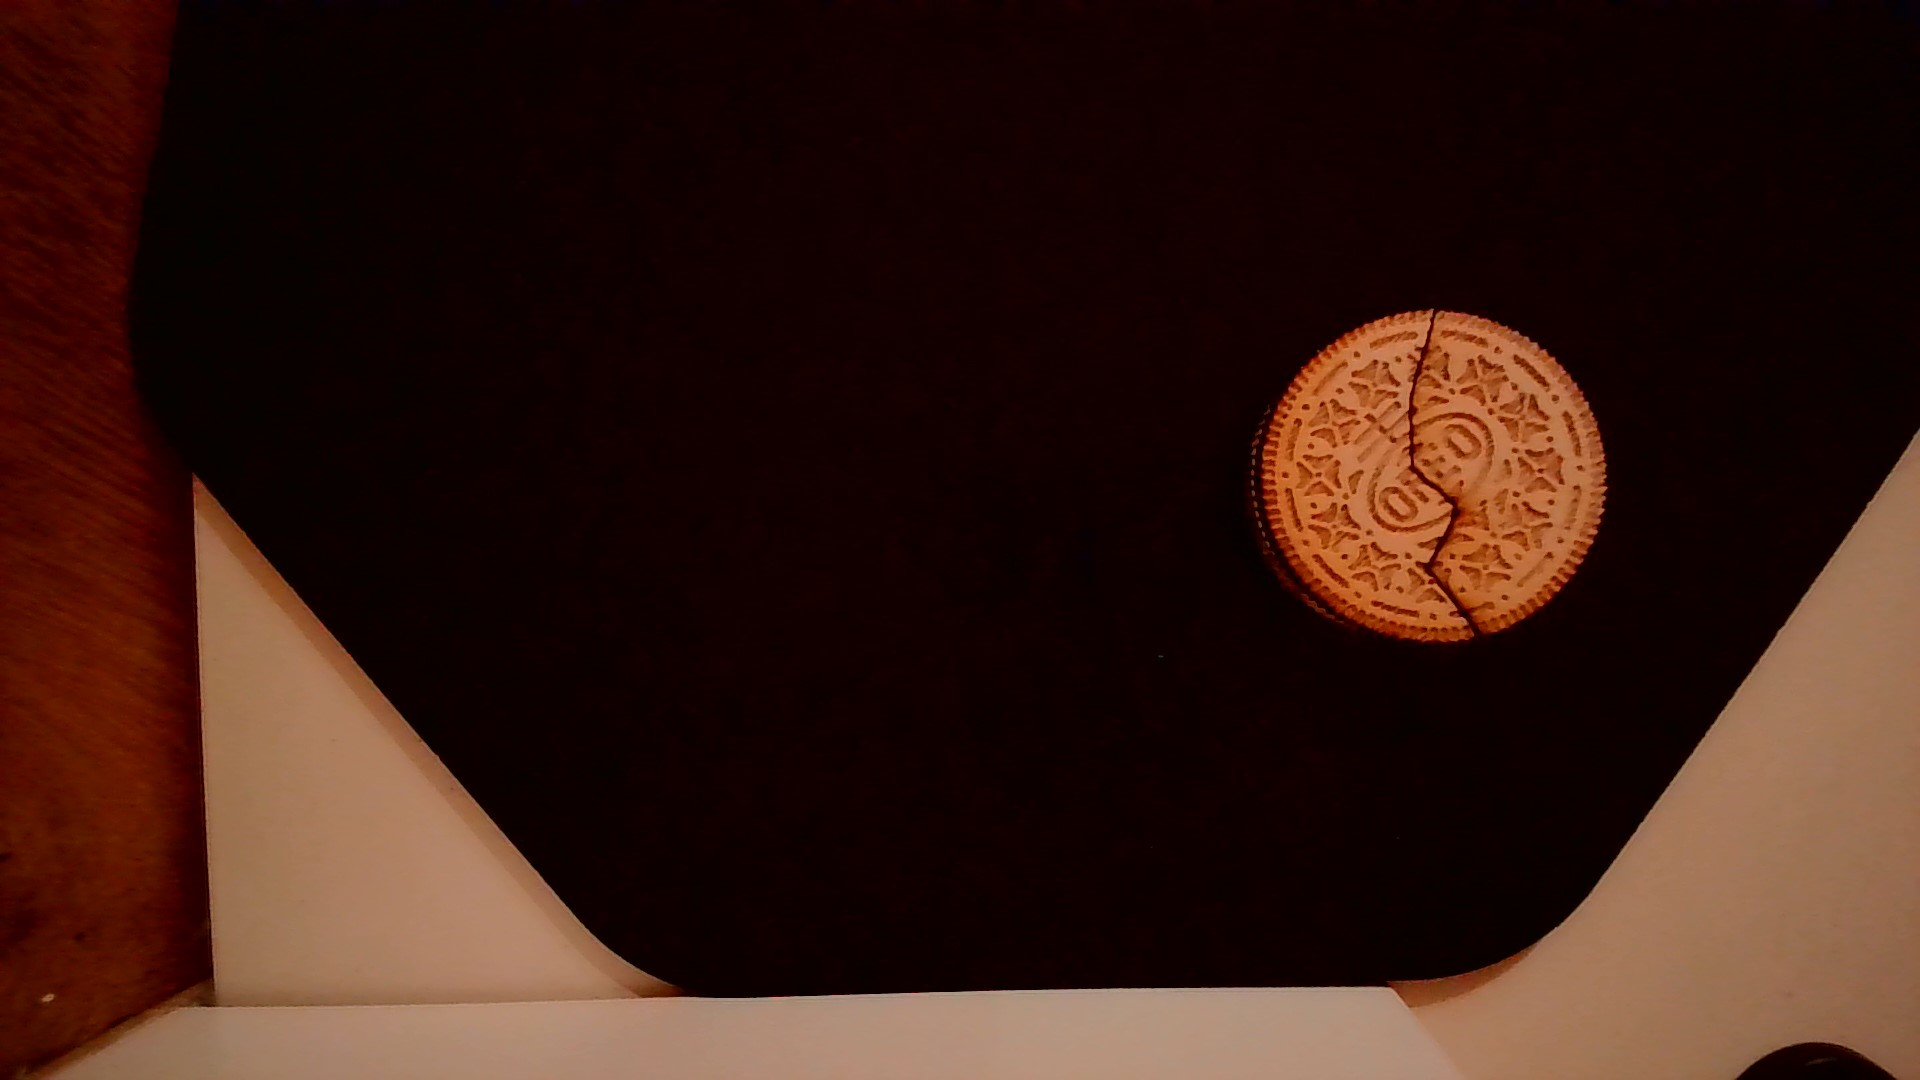Fissure: (1396, 309, 1507, 647)
Oréo: (1240, 307, 1613, 651)
